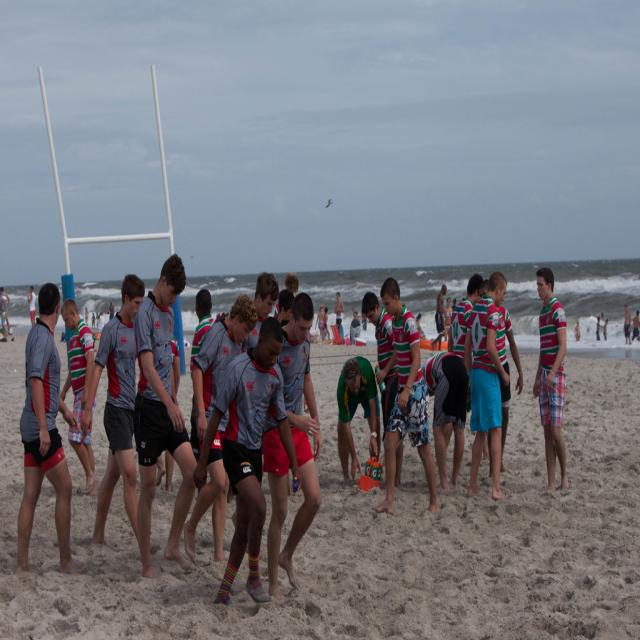Person: (0, 253, 640, 606)
